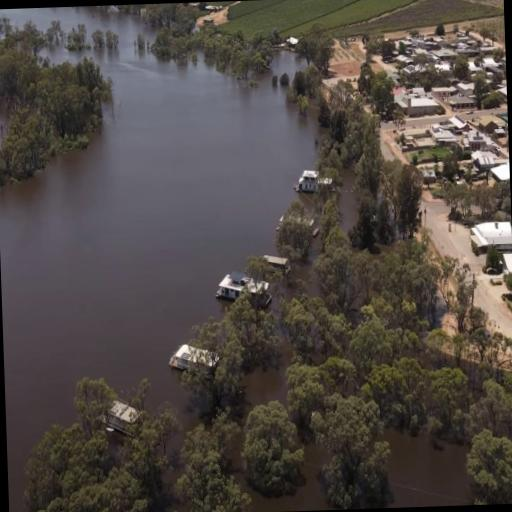flood: (0, 7, 320, 512), (232, 436, 330, 512), (381, 429, 473, 507), (149, 414, 198, 512), (241, 341, 291, 420), (282, 234, 321, 299), (338, 167, 358, 233), (295, 192, 315, 215), (372, 242, 394, 255)
house: (212, 270, 272, 309), (166, 339, 219, 380), (104, 396, 142, 438), (472, 218, 512, 254), (396, 88, 442, 116), (260, 252, 291, 278), (298, 168, 321, 194), (466, 130, 484, 150), (453, 96, 474, 108)
